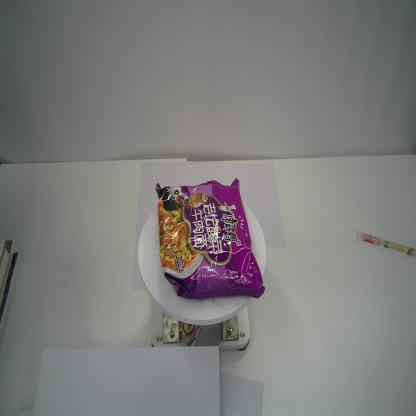Instant Noodles: (153, 176, 266, 301)
